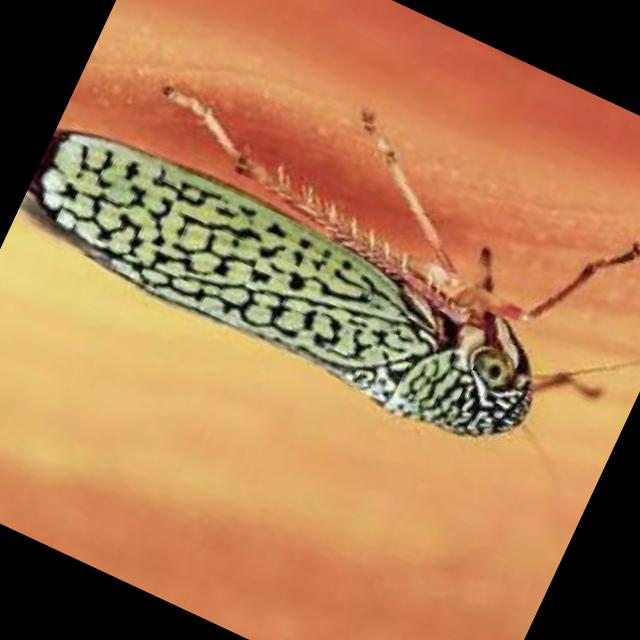green-leafhopper: (20, 94, 582, 470)
